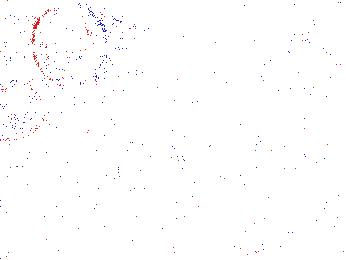moon jellyfish: (31, 4, 107, 88), (254, 40, 339, 84), (1, 74, 44, 141)
